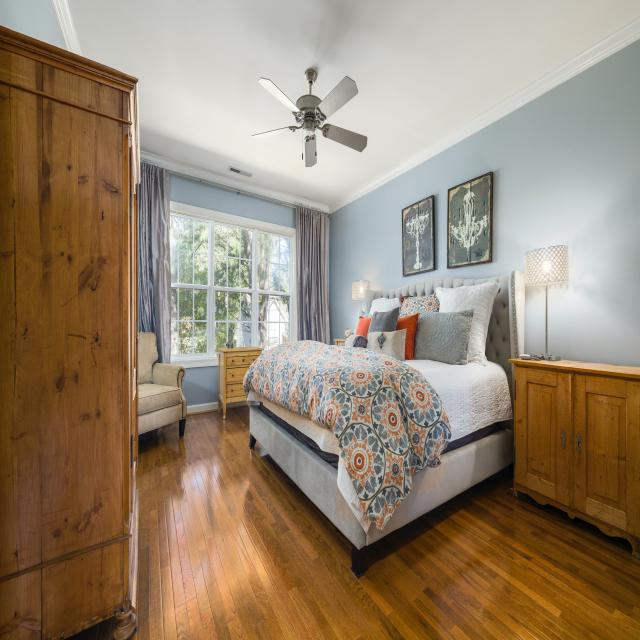floor: (126, 406, 640, 640), (65, 616, 118, 640)
wall: (329, 39, 640, 367), (169, 173, 296, 229), (445, 171, 493, 269), (402, 195, 435, 277), (182, 366, 218, 414)
